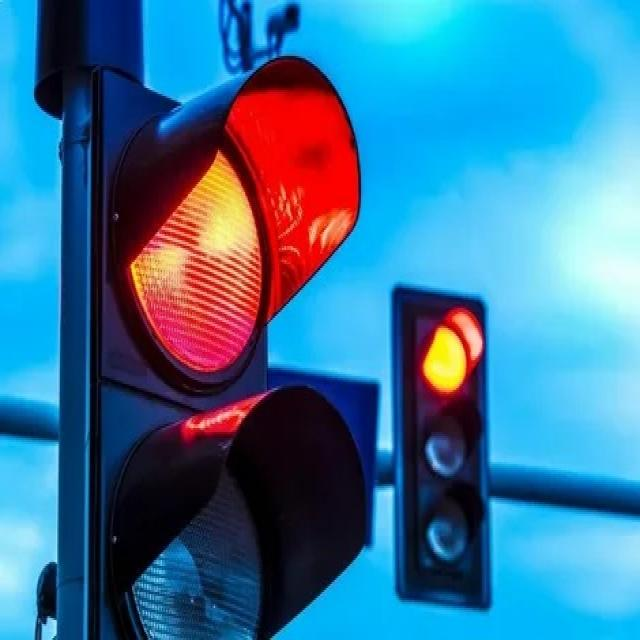kirmizi: (396, 285, 488, 609)
